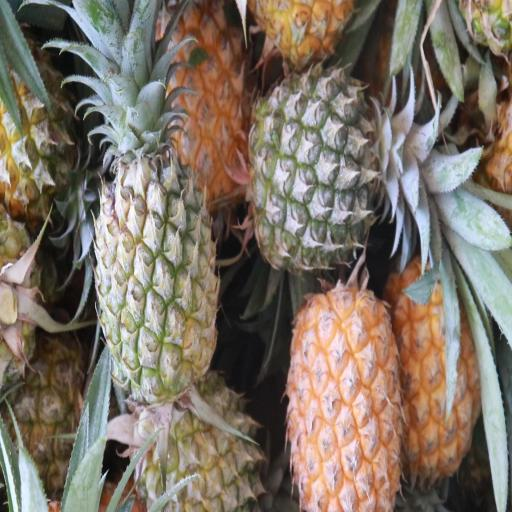Pineapple - v8 v1: (386, 252, 493, 508), (288, 278, 402, 510), (140, 0, 256, 200)
